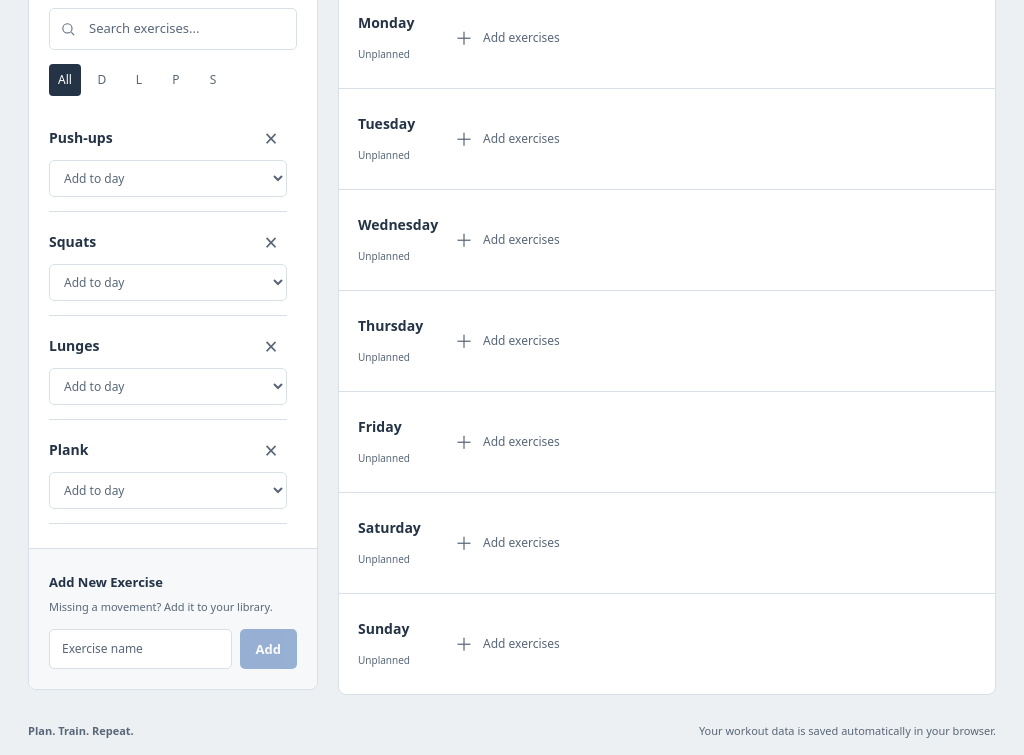
App Integration Tests › preserves the name after a failed create and allows retry
(page scrolled)
Check: the dropdown named "Add Squats to day" is shown, box [49, 264, 287, 301]
Type "Dips" into the field labelled "Add New Exercise" at x=140, y=649, box [49, 629, 232, 669]
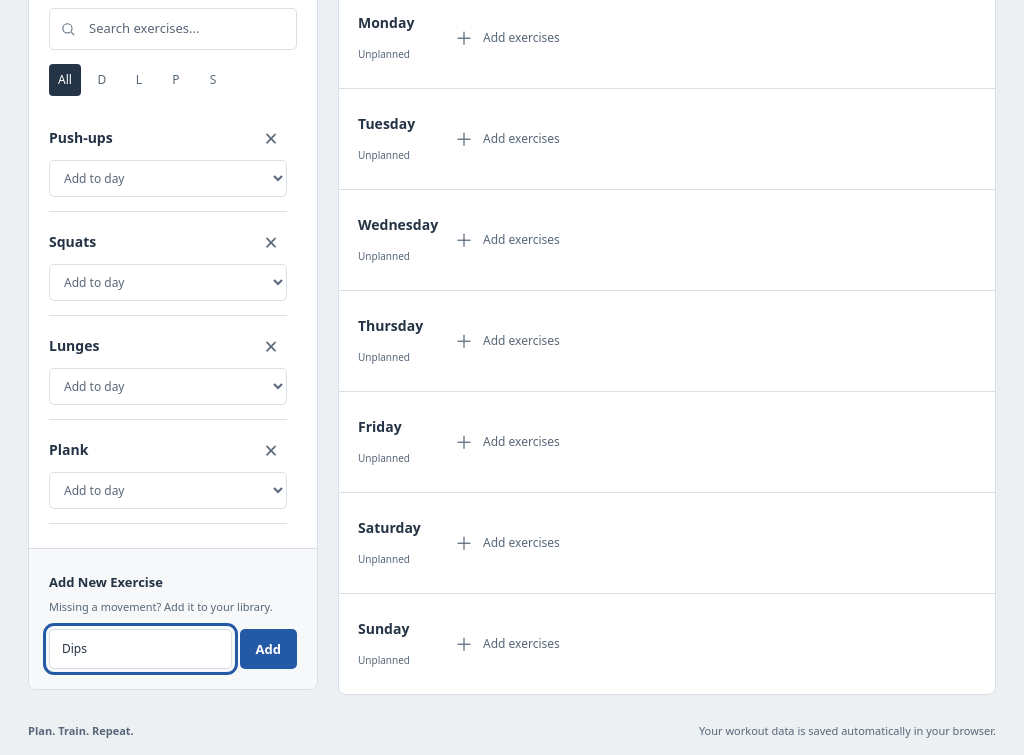
Click the button "Add" at x=268, y=649, box [240, 629, 297, 669]
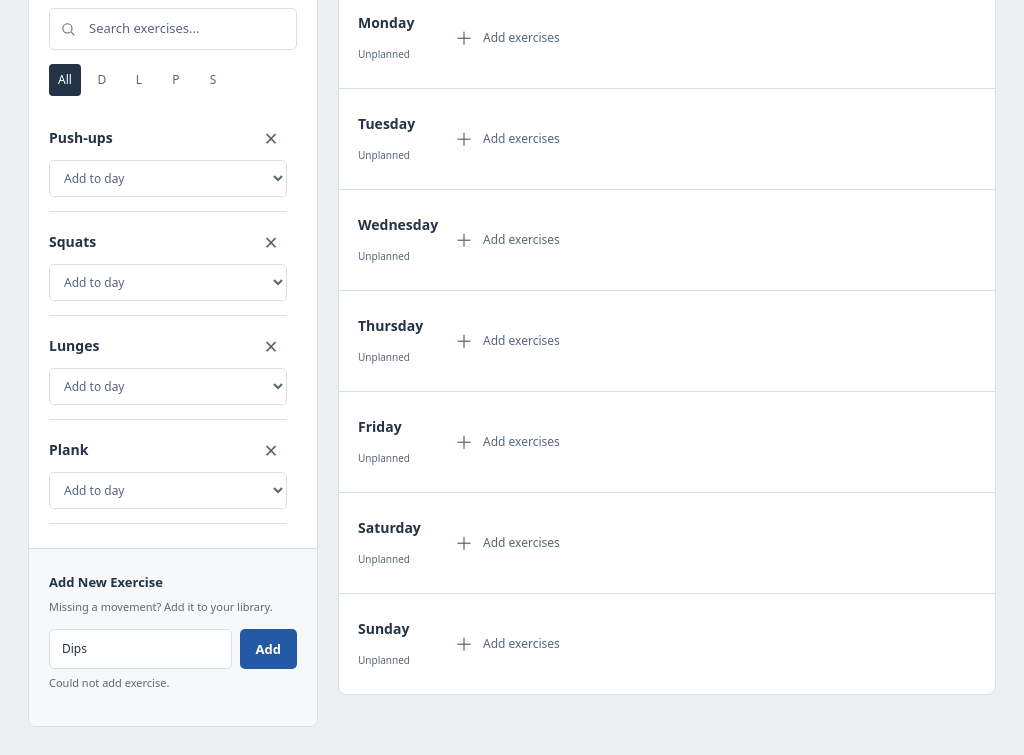
Check: the message reads "Could not add exercise.", box [49, 675, 169, 690]
Click the button "Add" at x=268, y=649, box [240, 629, 297, 669]
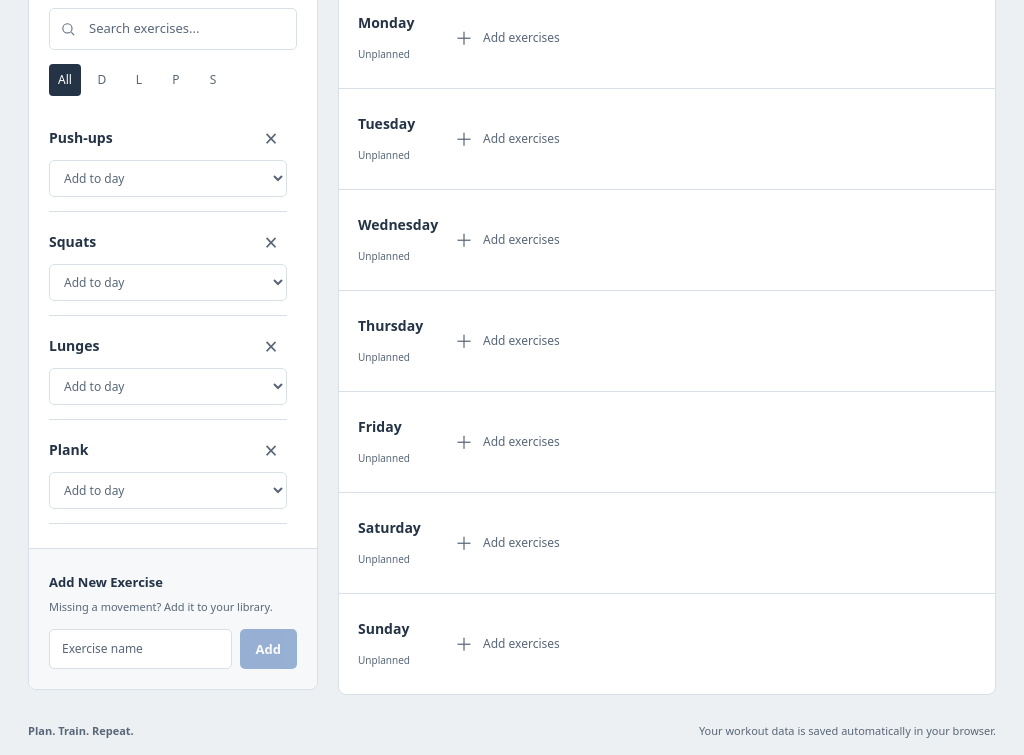
Check: the field labelled "Add New Exercise" is empty, box [49, 629, 232, 669]
Check: the message "Could not add exercise." is gone
